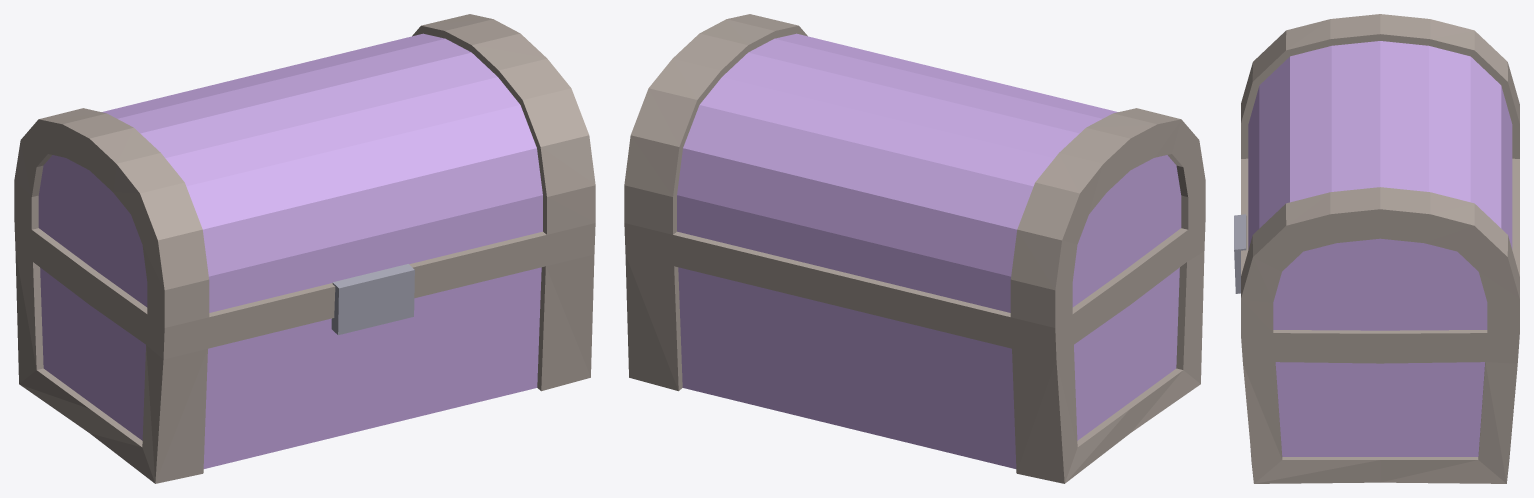
Rendered from Chest.fbx.
3 renders of one model, left to right at view 1: azimuth 30°, elevation 25°; view 2: azimuth 150°, elevation 25°; view 3: azimuth 270°, elevation 25°, orthographic. The views are drawn at different scales.
Parts seen in each view (by area): view 1: Chest; view 2: Chest; view 3: Chest.
Boxes of the visible parts, x1,y1,x2,y2 form: Chest: (14, 14, 595, 483); Chest: (624, 14, 1205, 483); Chest: (1234, 14, 1519, 483).
Size of the model in its own units: 245 by 158 by 150.
